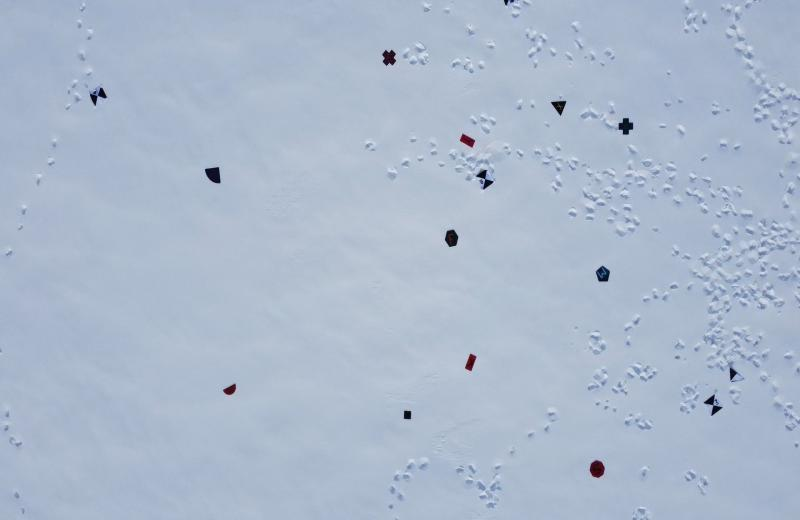Cross: (618, 116, 634, 137), (381, 48, 397, 67)
Hexagon: (445, 228, 458, 248)
Octagon: (589, 460, 605, 479)
Pentagon: (594, 264, 612, 283)
Quarter Circle: (204, 166, 222, 184)
Rectangle: (464, 352, 478, 373), (460, 131, 476, 149)
Semi Circle: (222, 384, 238, 396)
Square: (403, 410, 412, 421)
Triangle: (550, 98, 568, 116)
